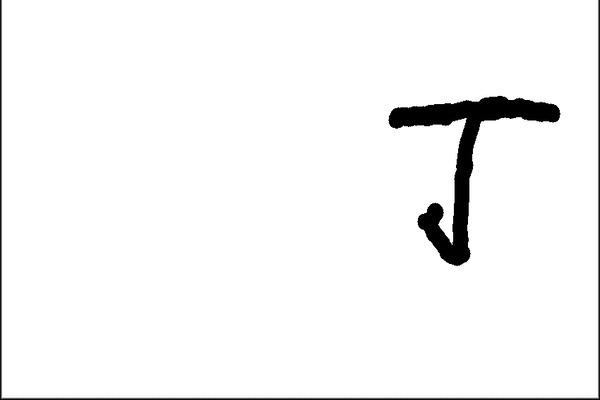J: (380, 91, 565, 269)
